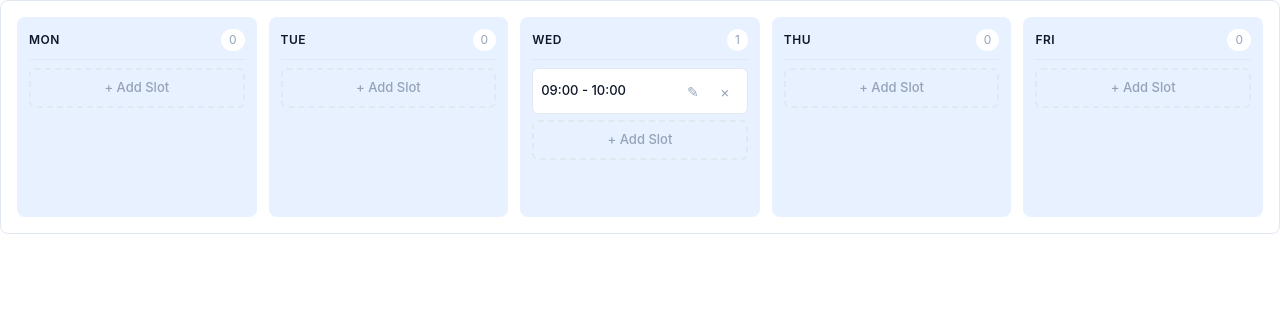
SchedulePicker › removes a slot
Click the button titled "Remove".
click(725, 91)  # box [711,77,739,105]
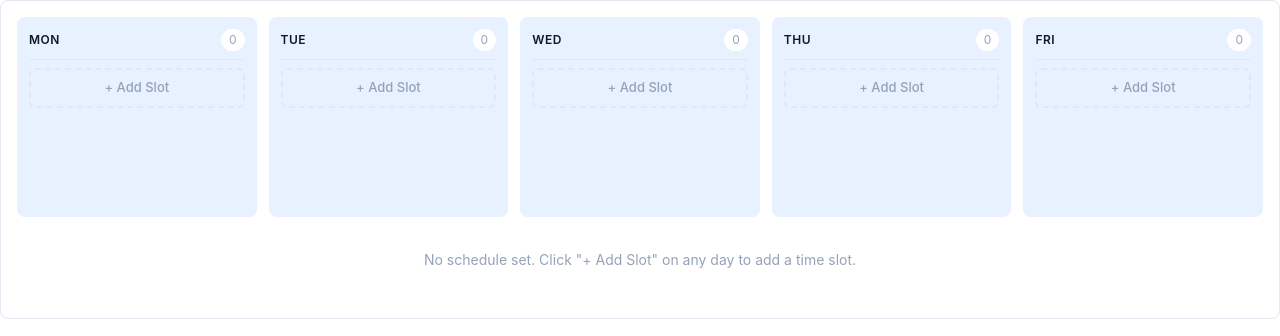
Expected: the text "No schedule set" is shown, [424,251,856,268]
